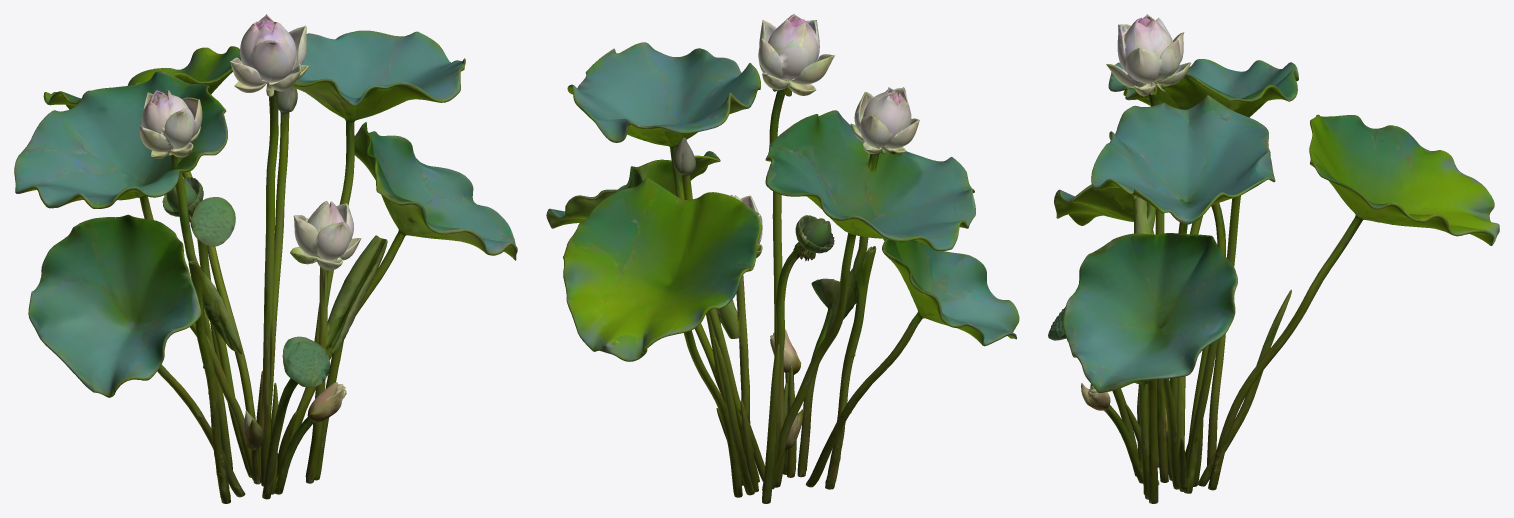
The model's file is HeHua_6.glb.
3 renders of one model, left to right at view 1: azimuth 30°, elevation 25°; view 2: azimuth 150°, elevation 25°; view 3: azimuth 270°, elevation 25°, orthographic. The views are drawn at different scales.
Visible parts, largest first — view 1: node_0; view 2: node_0; view 3: node_0.
Boxes of the visible parts, <box> form: node_0: <box>14,14,517,503</box>; node_0: <box>546,14,1019,503</box>; node_0: <box>1048,14,1499,503</box>.
Size of the model in its own units: 0.978 by 0.9789 by 0.8704.
Materials: 1 (1 with a texture image).
